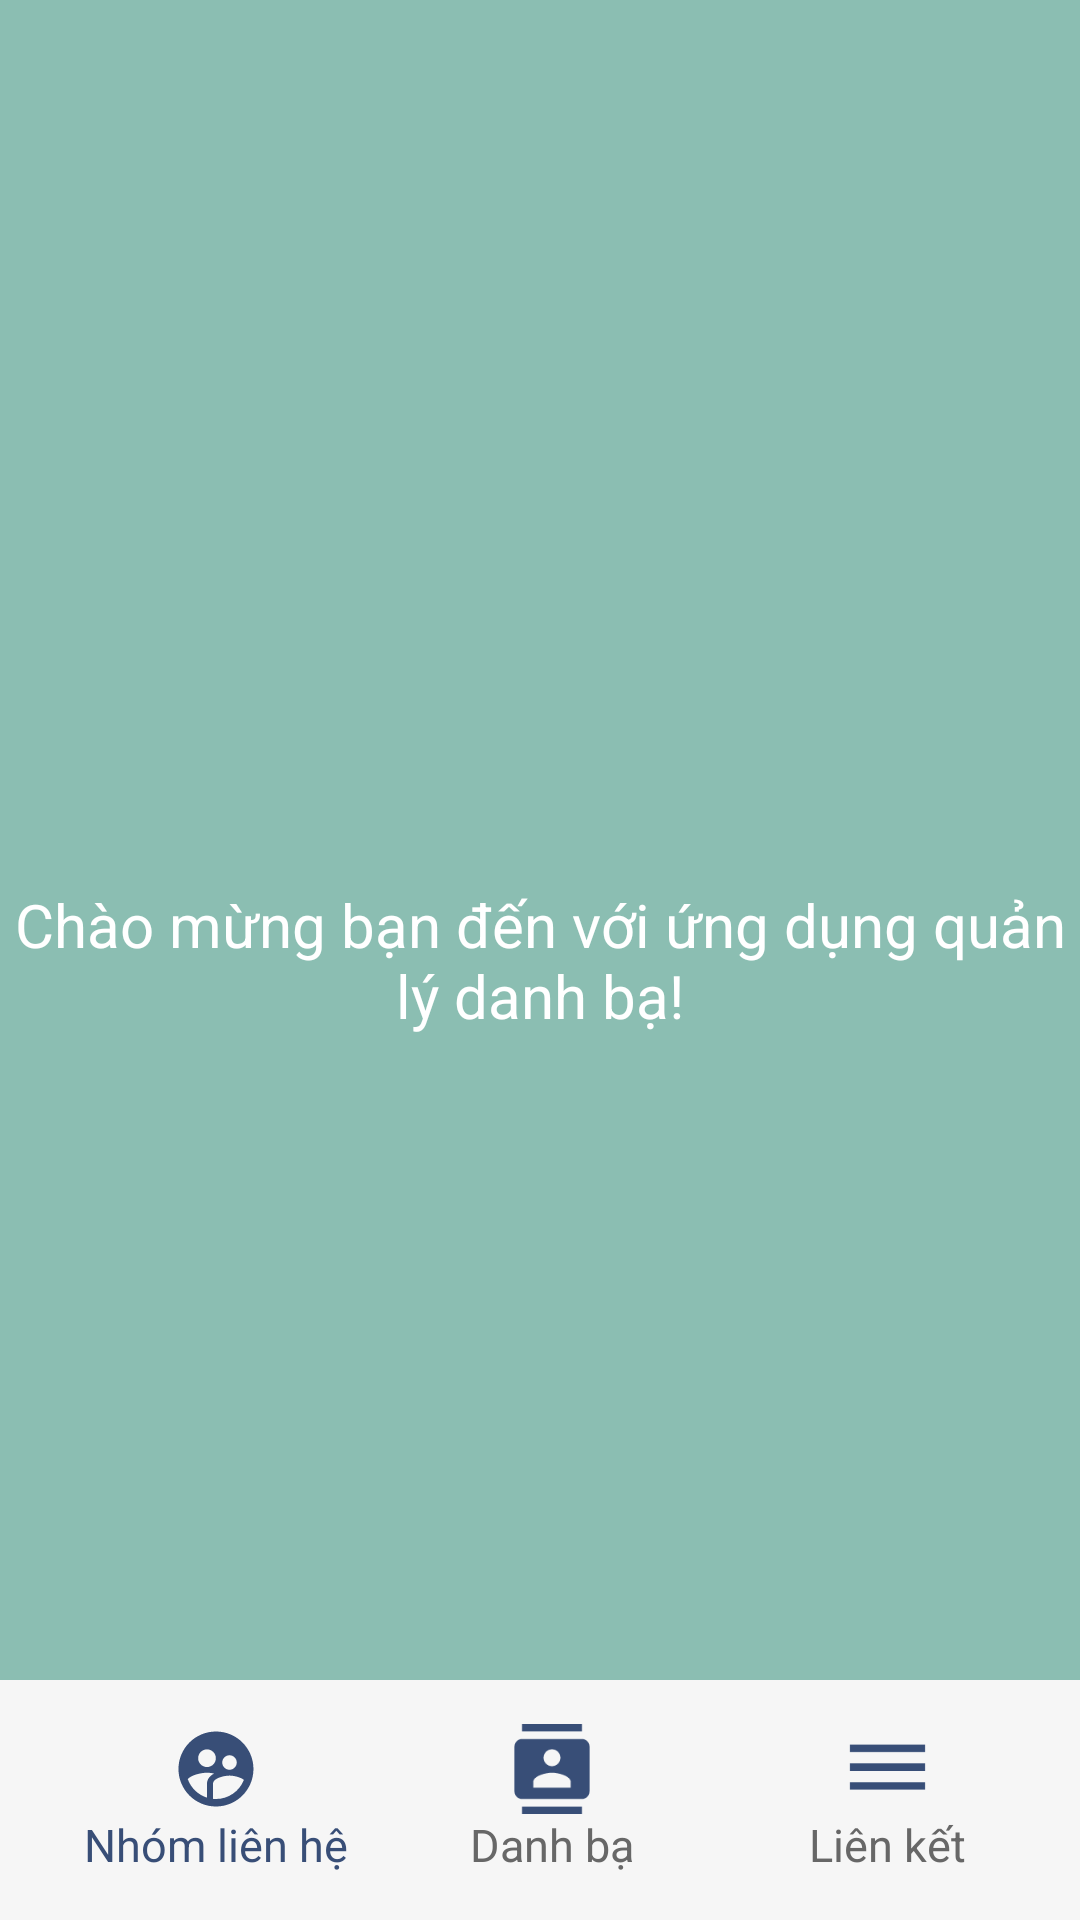

Where icons sit on this 1080×1920 app screen, as [x1, y1, x2, y2]:
dehaze: [850, 1744, 925, 1790]
supervised user circle: [178, 1731, 254, 1807]
